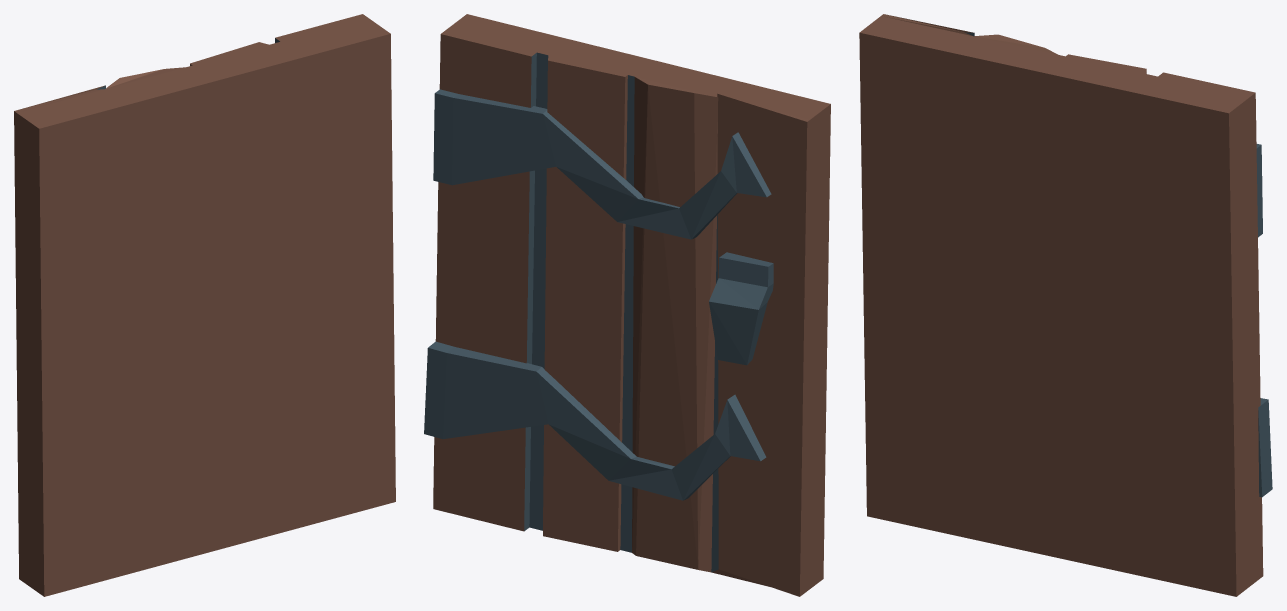
Rendered from Left.fbx.
The picture shows the model from 3 angles, left to right: view 1: azimuth 30°, elevation 25°; view 2: azimuth 150°, elevation 25°; view 3: azimuth 330°, elevation 25°; orthographic projection. The views are drawn at different scales.
Visible parts, largest first — view 1: Keg wall.018; view 2: Keg wall.018; view 3: Keg wall.018.
Boxes of the visible parts, x1,y1,x2,y2 form: Keg wall.018: (14,14,395,596); Keg wall.018: (424,14,830,596); Keg wall.018: (859,14,1272,596).
Bounding box in the file's own units: 77.71 × 97.09 × 15.67.
